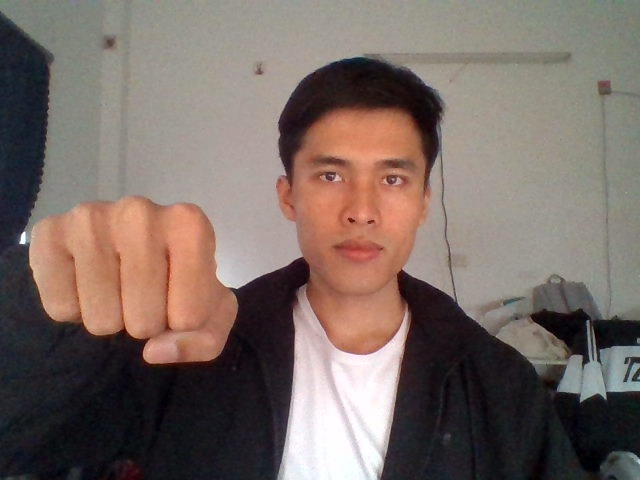Yes: (29, 194, 243, 365)
